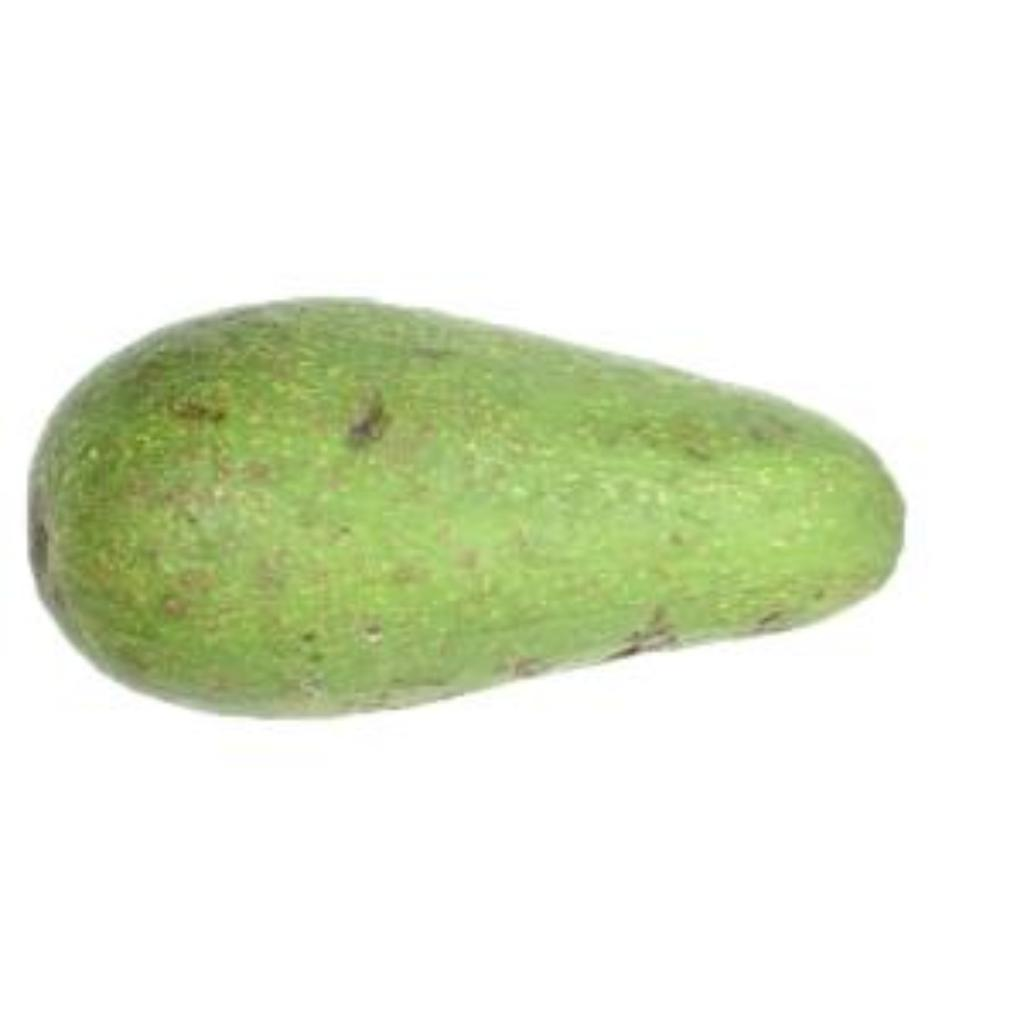cercospora: (12, 268, 940, 736)
